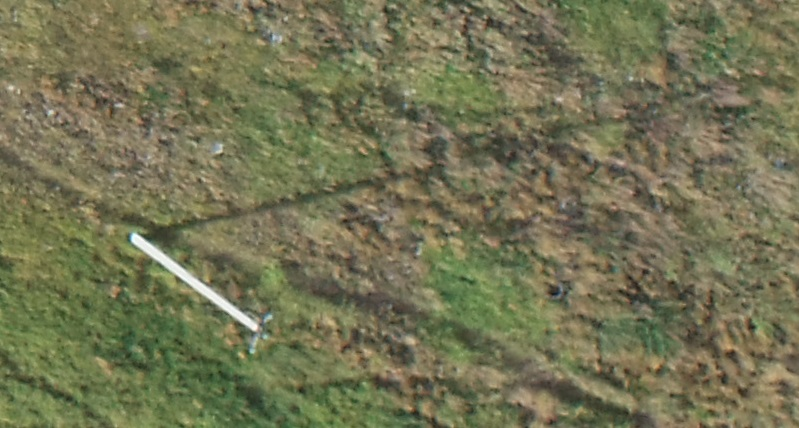opora: (131, 204, 276, 355)
